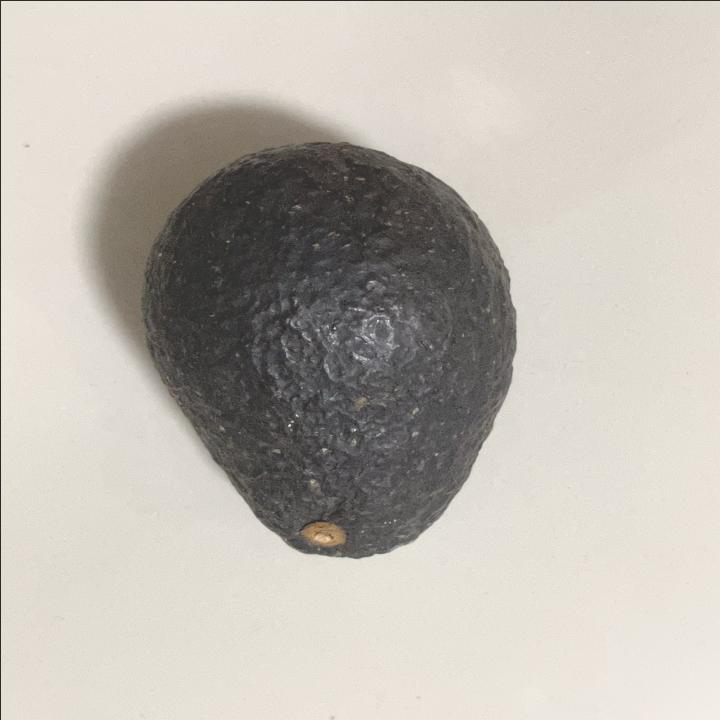Level3: (130, 132, 528, 570)
